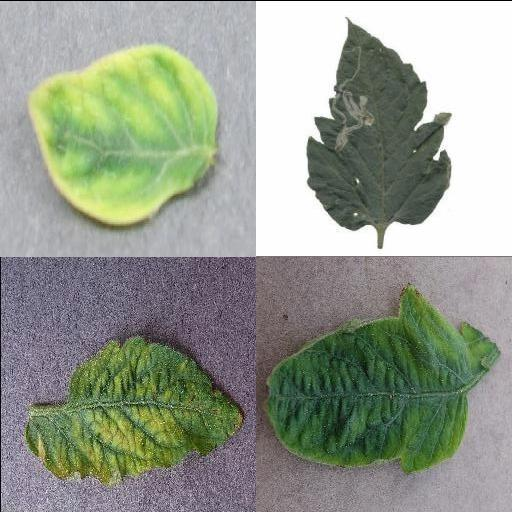Leaf Miner: (306, 17, 454, 231)
Mosaic Virus: (23, 334, 247, 483)
Yellow Leaf Curl Virus: (265, 280, 479, 471), (26, 42, 218, 226)
